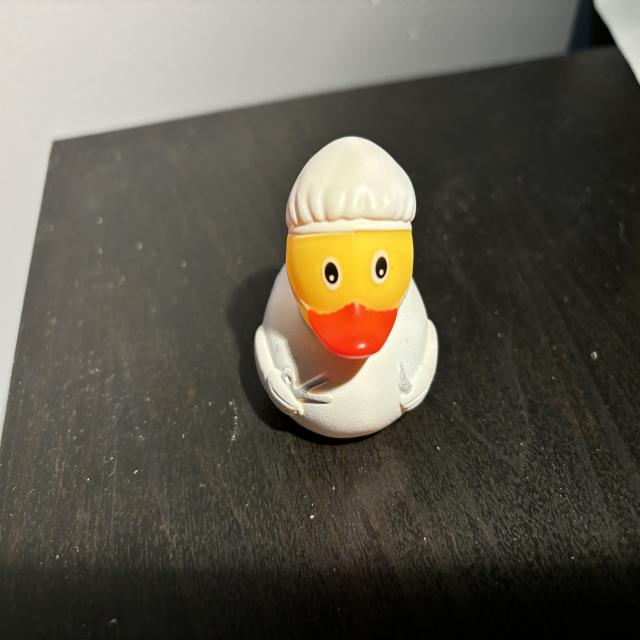duck_specialty: (257, 137, 440, 439)
